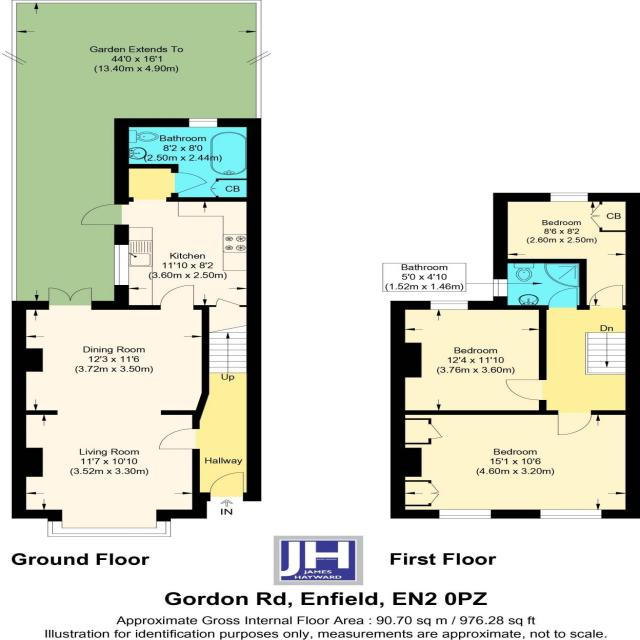DOOR: (78, 202, 130, 227), (207, 470, 246, 501), (555, 410, 598, 438), (153, 426, 200, 451), (170, 170, 211, 197), (502, 378, 547, 402), (158, 282, 196, 310), (587, 283, 624, 310), (546, 286, 580, 310), (211, 296, 243, 307)
DOUBLE DOOR: (44, 285, 97, 310)
ROOM: (11, 277, 211, 536), (74, 163, 262, 310), (390, 410, 640, 519), (390, 300, 547, 415), (493, 193, 640, 310)
WINDOW: (44, 519, 174, 538), (111, 242, 131, 286), (539, 508, 603, 519), (436, 508, 494, 520), (548, 191, 591, 203), (427, 299, 469, 311), (186, 116, 221, 128), (491, 277, 510, 297)
